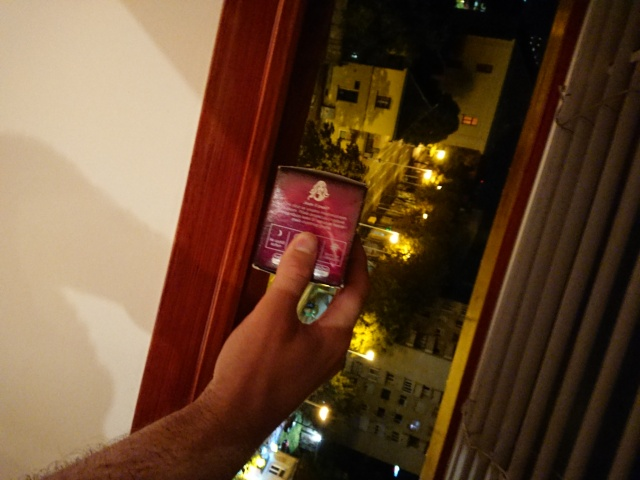Franck Black Currant Tea 60g: (248, 162, 371, 291)
